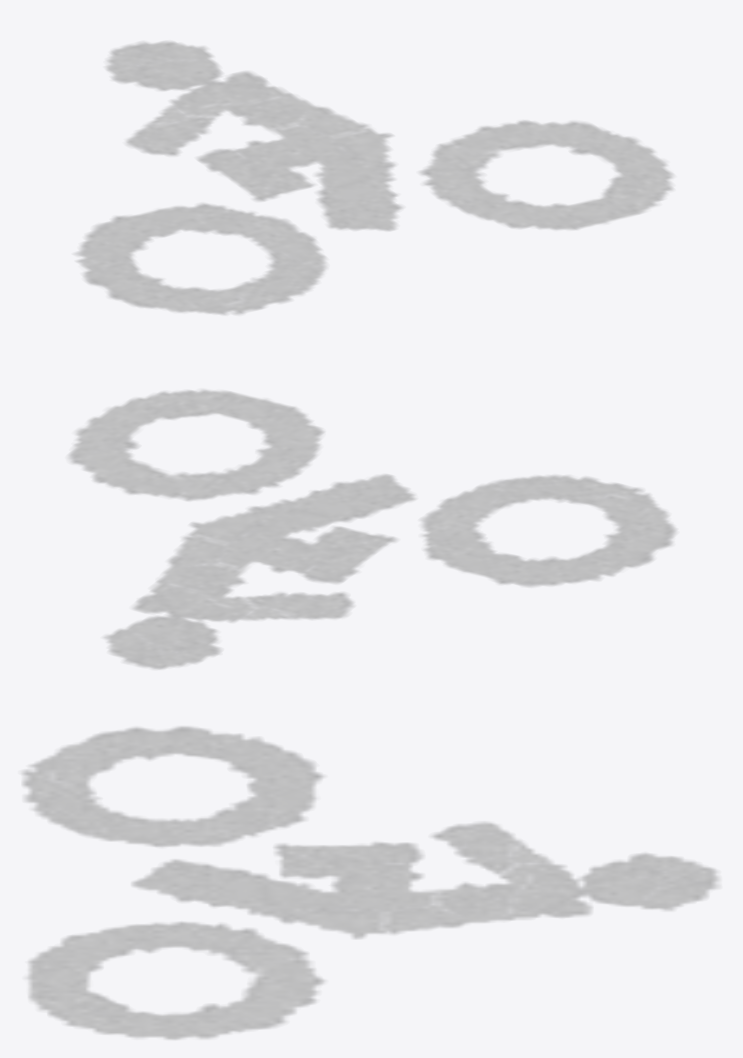
The model's file is Decal_Bikelane.glb.
3 renders of one model, top to bottom at view 1: azimuth 30°, elevation 25°; view 2: azimuth 150°, elevation 25°; view 3: azimuth 270°, elevation 25°, orthographic. The views are drawn at different scales.
Parts seen in each view (by area): view 1: Decal_Bikelane; view 2: Decal_Bikelane; view 3: Decal_Bikelane.
Part boxes in pixels (x1,y1,x2,y2): Decal_Bikelane: (75,41,673,314); Decal_Bikelane: (69,389,675,668); Decal_Bikelane: (23,726,719,1039).
Size of the model in its own units: 2.97 by 0 by 2.82.
1 material, 1 textured.
